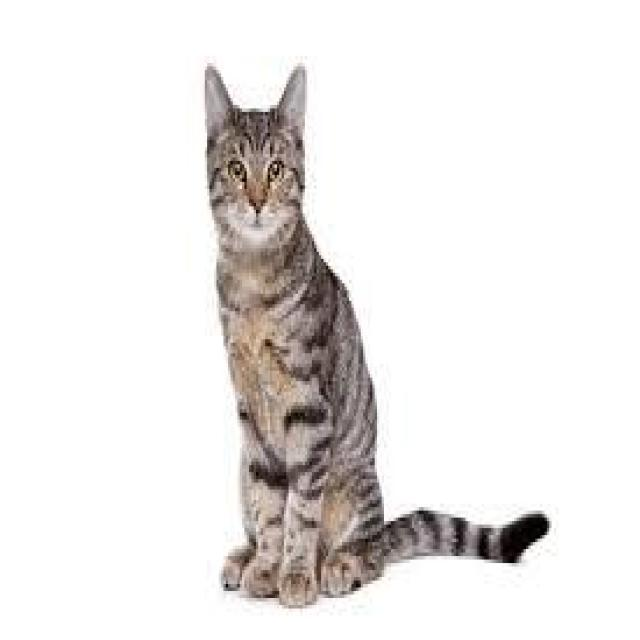Cat: (198, 57, 312, 258)
